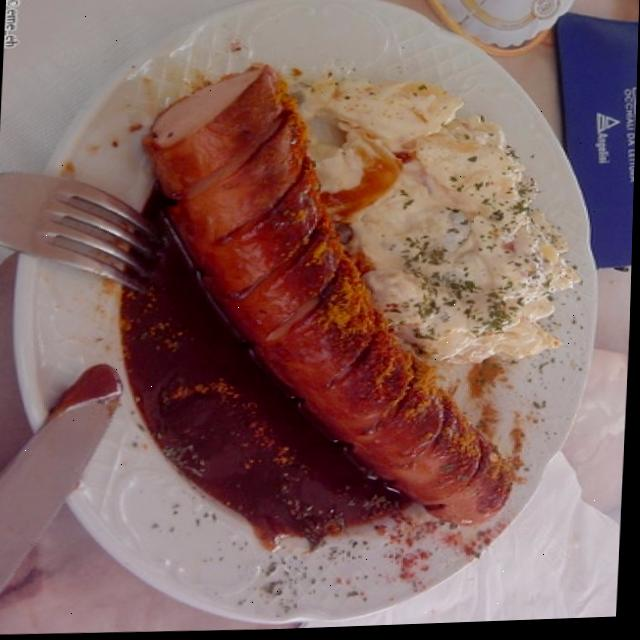炸货点心: (23, 0, 622, 639)
